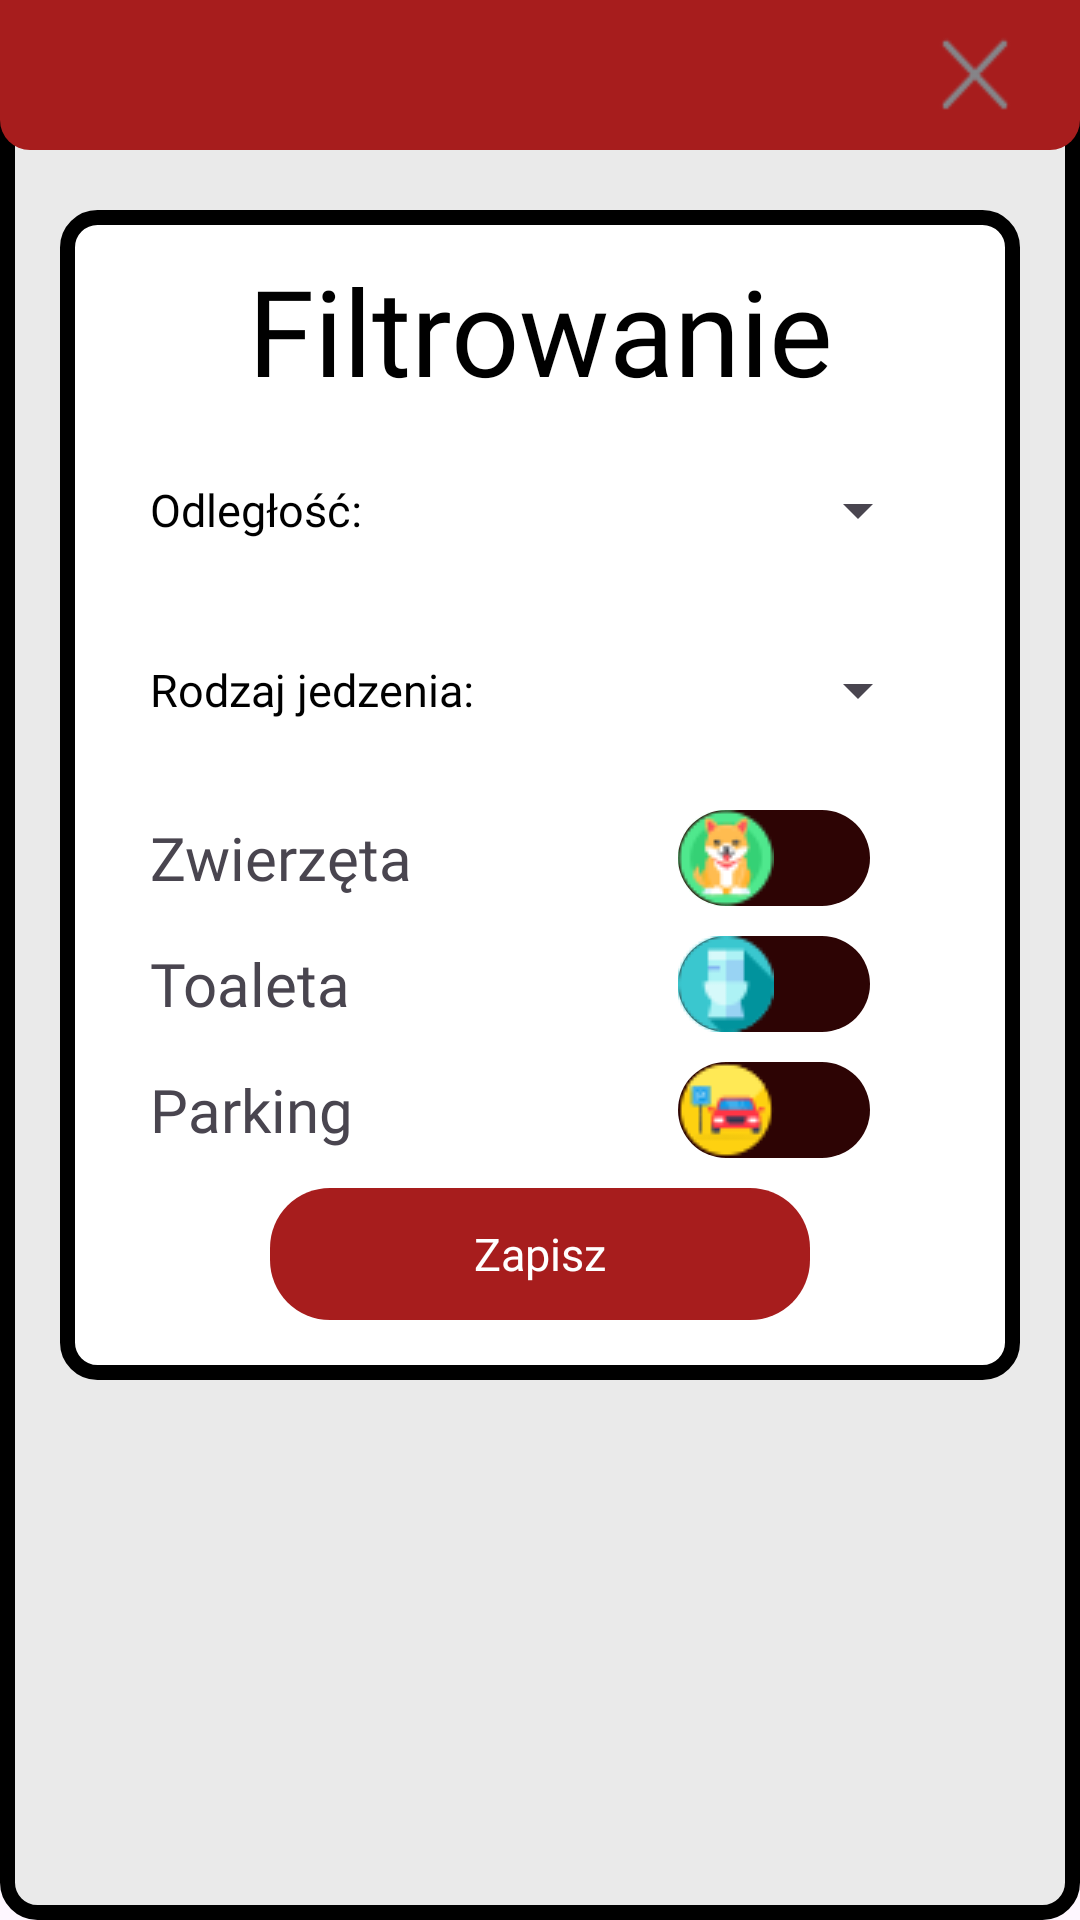

Named icons in this screenshot (1080 x 1920) and their bounding boxes, (x1, y1, x2, y2):
close photo: (942, 40, 1008, 109)
